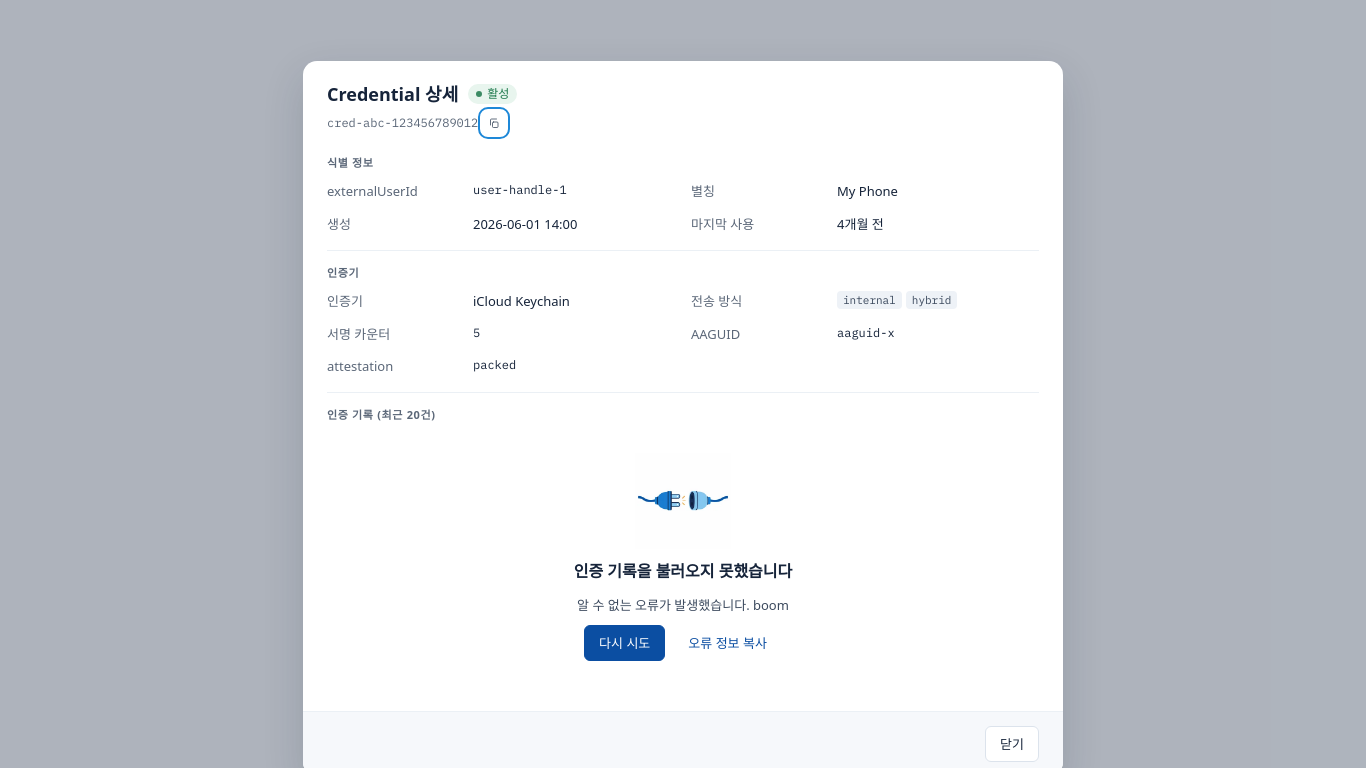
Test: CredentialDetailDialog › refetches and renders events when retry is clicked after a failure
Click the button "다시 시도" at point(625, 643), box [584,625,665,661]
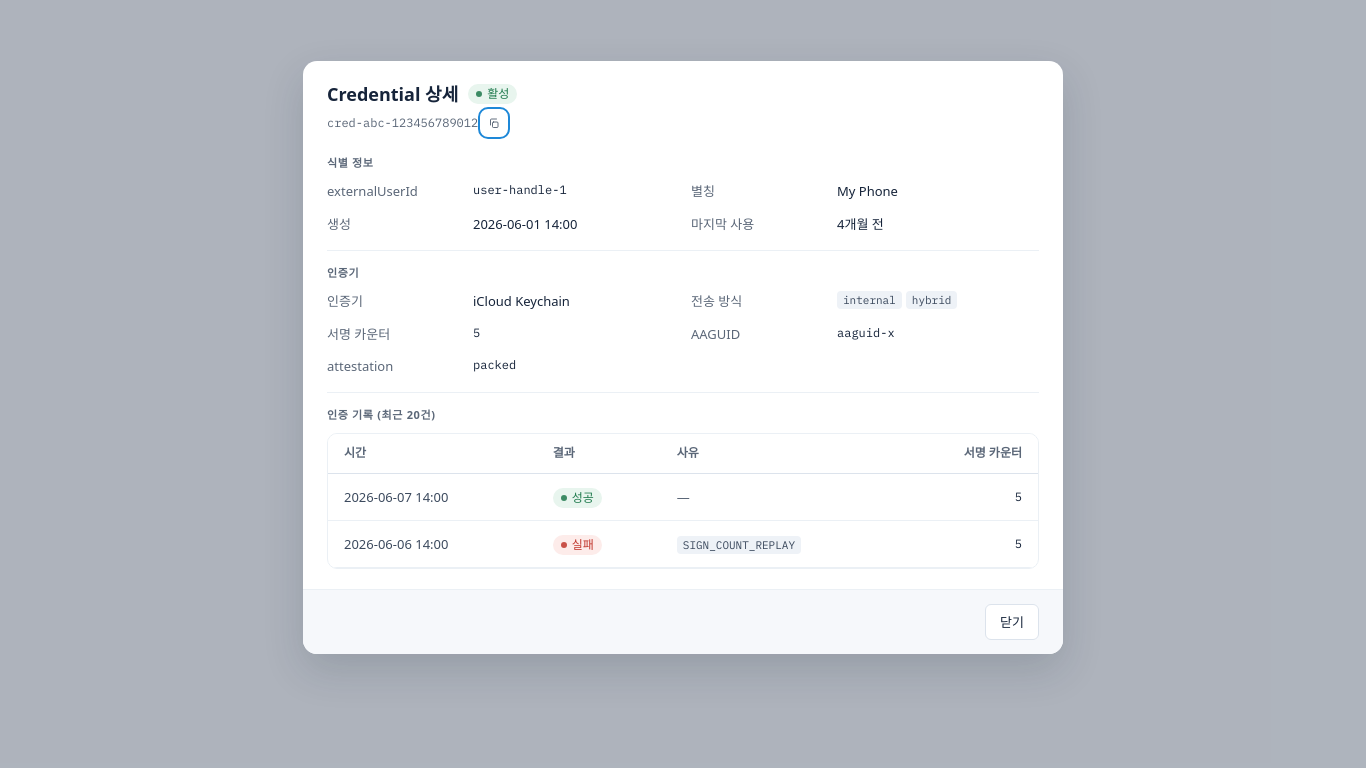
Now the text "성공" is shown, box [553,488,602,508]
Now the text "실패" is shown, box [553,535,602,555]
Now the text "SIGN_COUNT_REPLAY" is shown, box [677,536,801,554]
